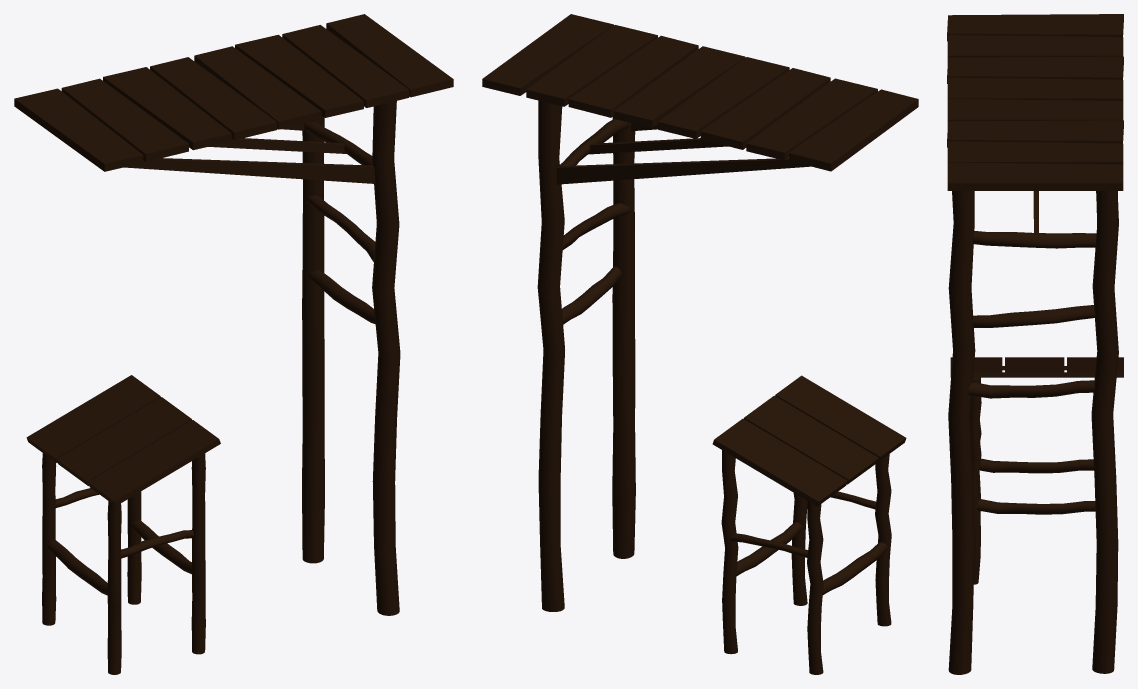
Rendered from Wooden_Platforms 1.FBX.
3 views of the same model, side by side, from view 1: azimuth 30°, elevation 25°; view 2: azimuth 150°, elevation 25°; view 3: azimuth 270°, elevation 25° (orthographic).
Parts seen in each view (by area): view 1: Box004, Cylinder002, Box014, Cylinder008, Box011, Cylinder005, Cylinder012; view 2: Box004, Cylinder002, Box014, Cylinder008, Box011, Cylinder005, Cylinder012; view 3: Box004, Cylinder002, Cylinder005, Cylinder012, Box014, Cylinder008.
Part boxes in pixels (bbox=[...]): Box004: bbox=[14, 14, 453, 171]; Cylinder002: bbox=[302, 101, 400, 615]; Box014: bbox=[26, 375, 220, 505]; Cylinder008: bbox=[42, 453, 205, 674]; Box011: bbox=[124, 123, 375, 183]; Cylinder005: bbox=[304, 122, 375, 324]; Cylinder012: bbox=[47, 488, 193, 595]; Box004: bbox=[482, 14, 918, 171]; Cylinder002: bbox=[537, 100, 635, 611]; Box014: bbox=[712, 375, 906, 506]; Cylinder008: bbox=[721, 450, 891, 674]; Box011: bbox=[556, 123, 810, 184]; Cylinder005: bbox=[560, 119, 630, 324]; Cylinder012: bbox=[730, 491, 887, 594]; Box004: bbox=[947, 14, 1123, 190]; Cylinder002: bbox=[948, 191, 1118, 674]; Cylinder005: bbox=[968, 231, 1096, 398]; Cylinder012: bbox=[977, 458, 1095, 514]; Box014: bbox=[950, 357, 1123, 377]; Cylinder008: bbox=[970, 377, 981, 584].
Bounding box in the file's own units: 120 × 172 × 53.23.
